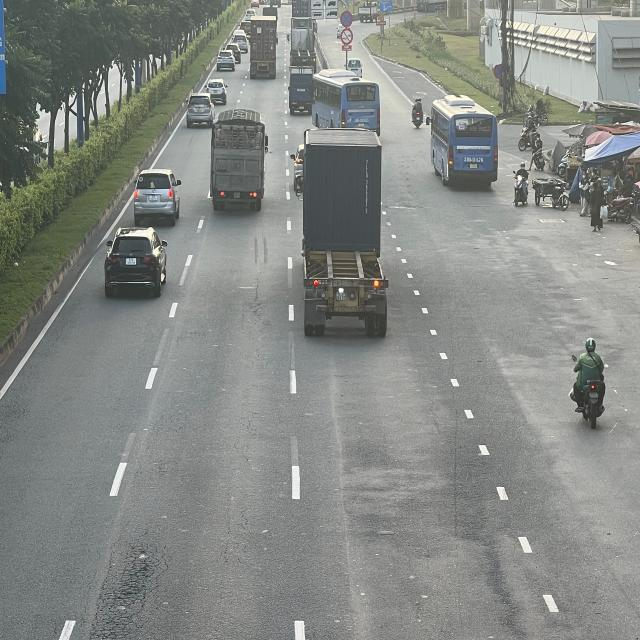car: (104, 225, 169, 295), (132, 170, 182, 227), (184, 93, 214, 128), (207, 79, 228, 107), (215, 52, 236, 74)
coach: (426, 99, 496, 189), (311, 69, 382, 131)
container: (301, 132, 393, 340), (249, 14, 277, 79), (288, 19, 316, 67)
truck: (208, 110, 266, 212), (288, 68, 313, 117)
